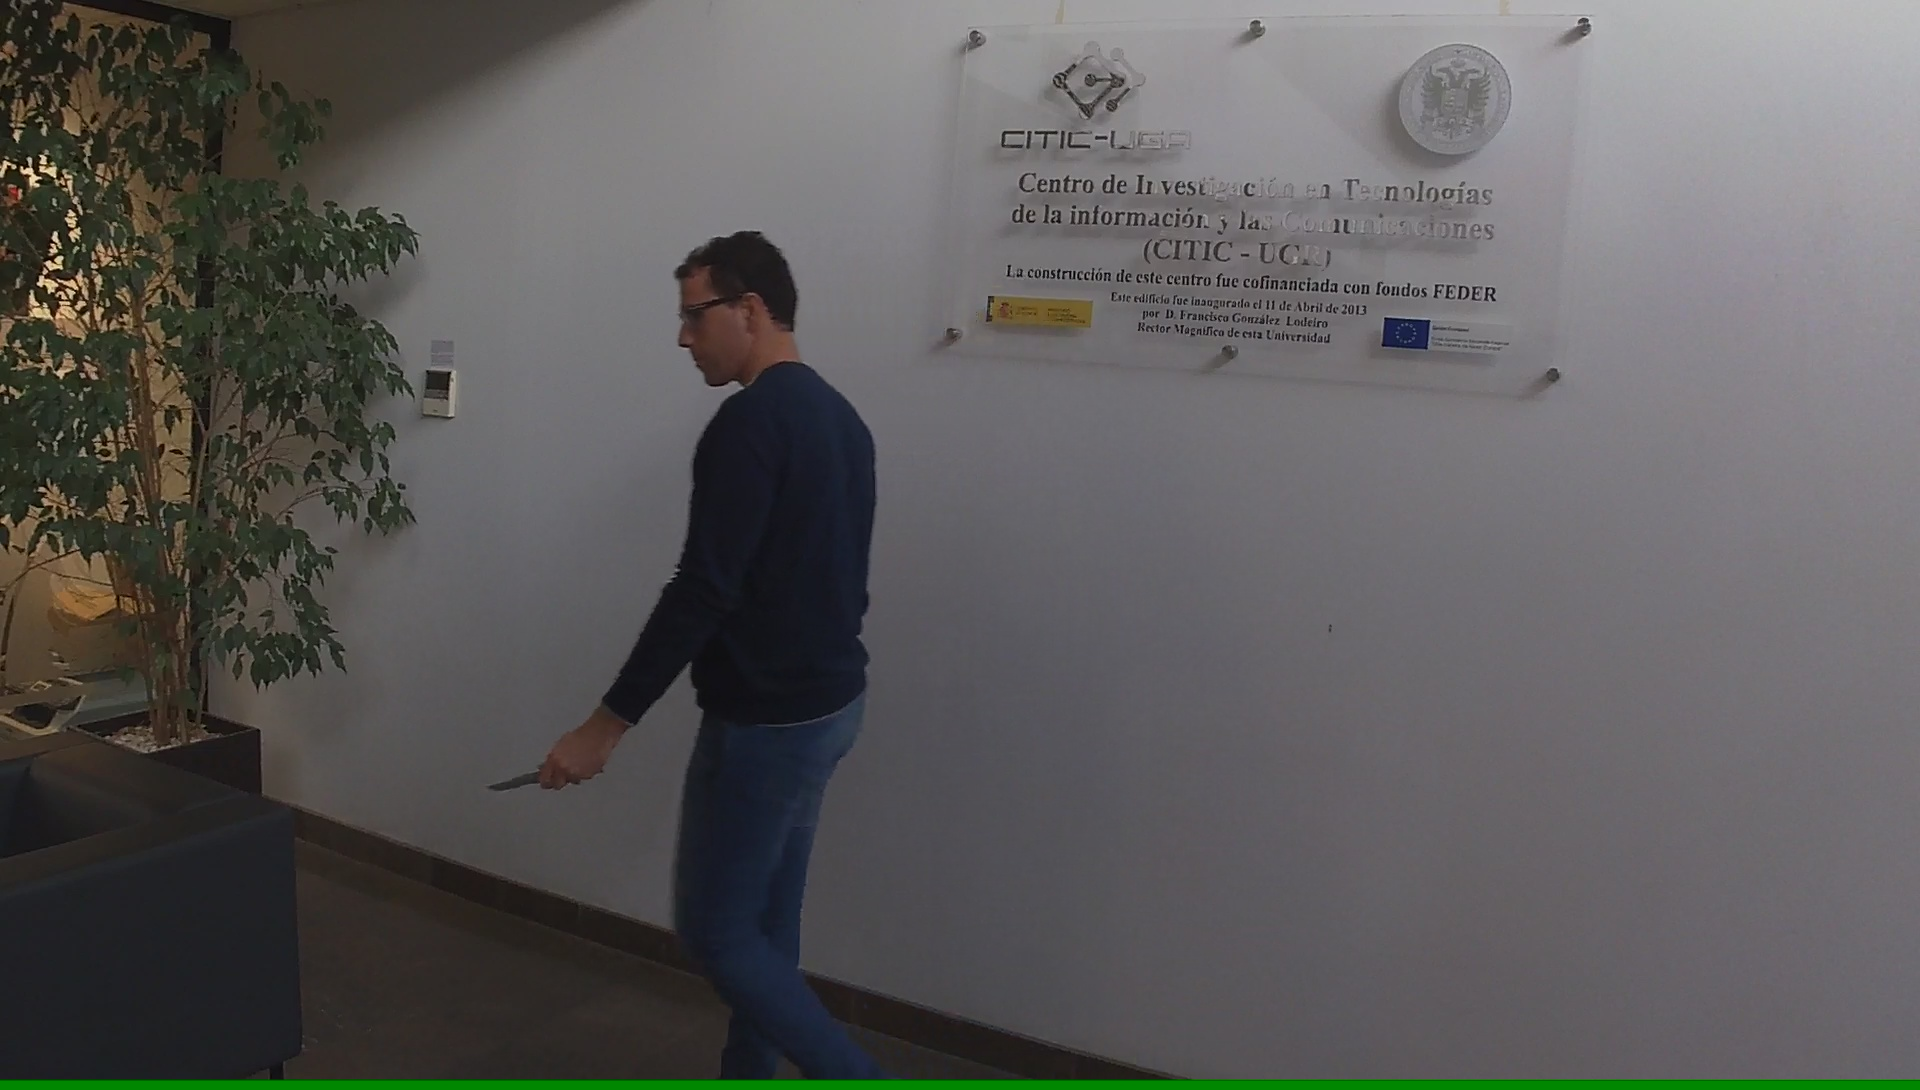knife: (472, 742, 599, 801)
